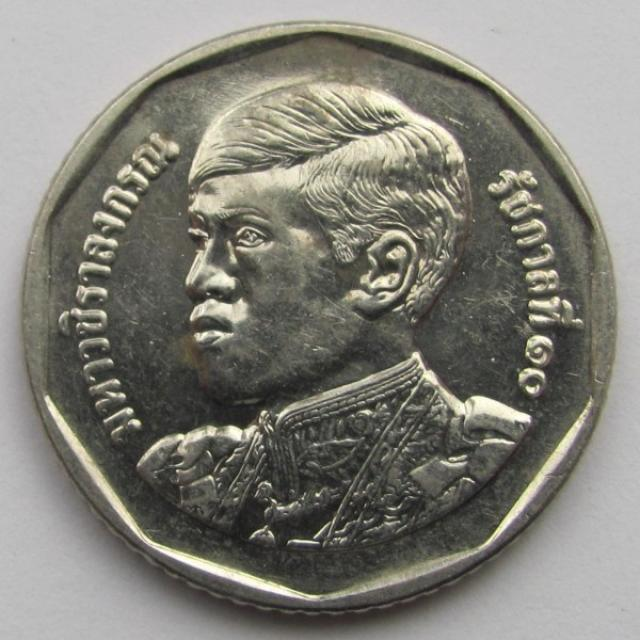5 Bath: (19, 20, 632, 622)
